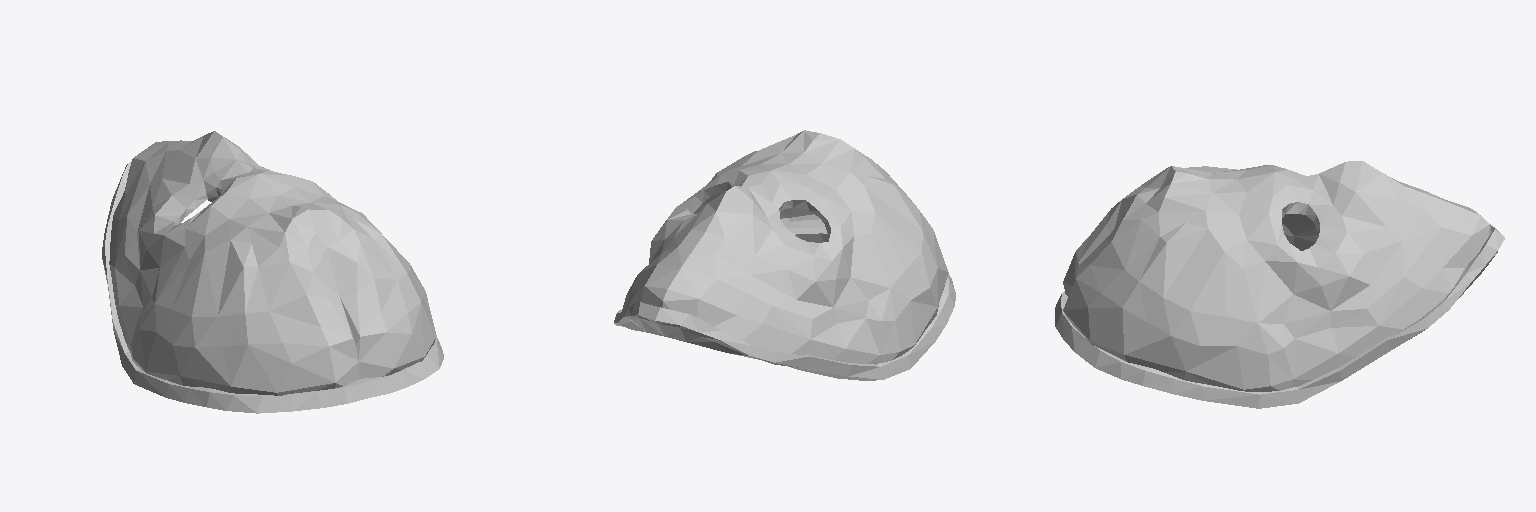
Rendered from Brainiack.obj.
3 renders of one model, left to right at view 1: azimuth 30°, elevation 25°; view 2: azimuth 150°, elevation 25°; view 3: azimuth 270°, elevation 25°, orthographic.
Parts seen in each view (by area): view 1: model-0; view 2: model-0; view 3: model-0.
Part boxes in pixels (left/top/right/bottom): model-0: left=102, top=131, right=443, bottom=413; model-0: left=614, top=130, right=955, bottom=380; model-0: left=1055, top=161, right=1504, bottom=408.
Bounding box in the file's own units: 8.05 × 5.53 × 11.88.